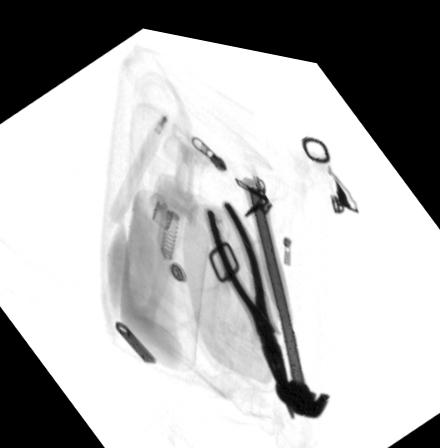Hammer: (239, 169, 331, 407)
Pliers: (202, 191, 286, 392)
